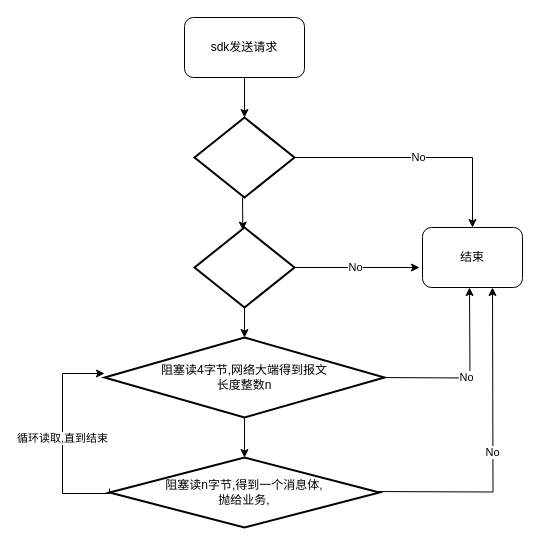
Image size: 540x546. Some labels were removed from this diagram. Each missing label, with the centre of its shape:
成功: the point at 244,157
状态码==200: the point at 244,267
